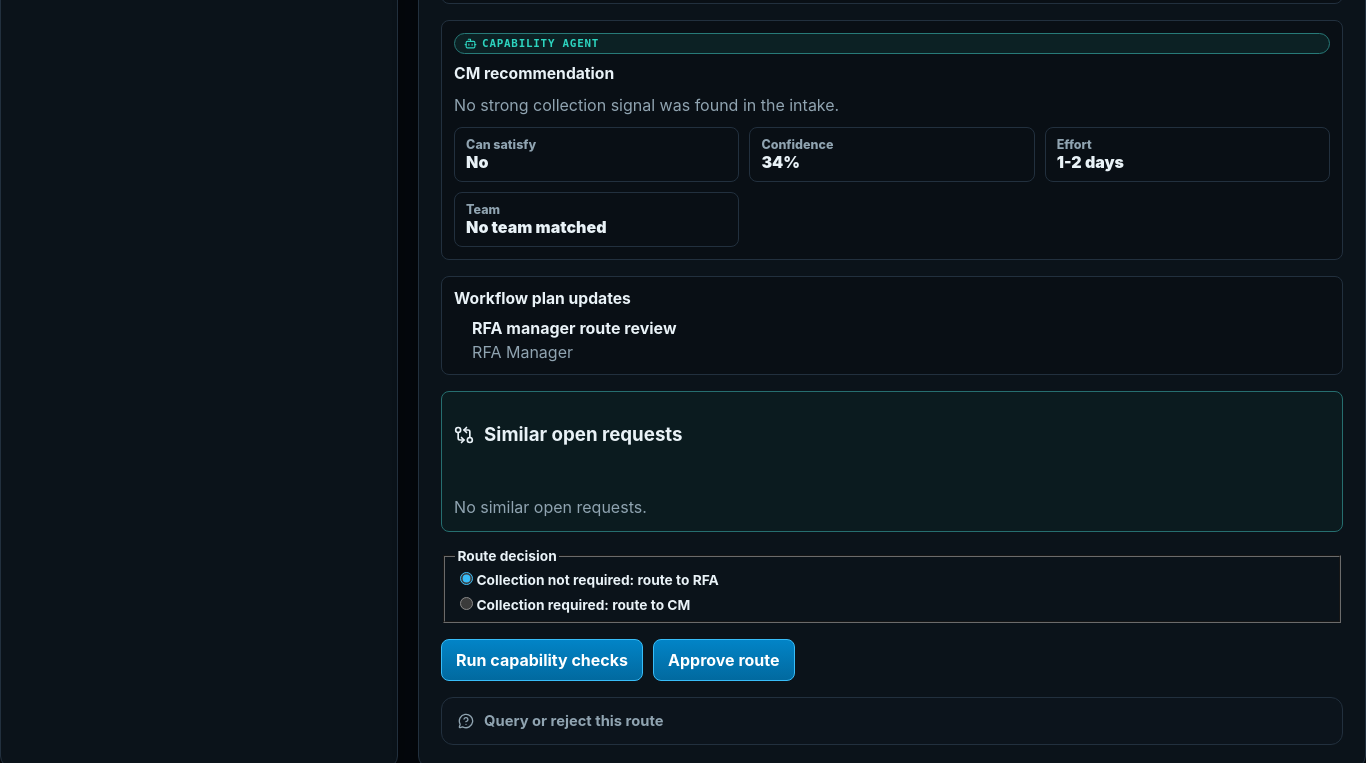
Scenario: shows an action error when the route approval fails
(page scrolled)
Click the button "Approve route". click: (724, 660)
box: [653,639,794,681]
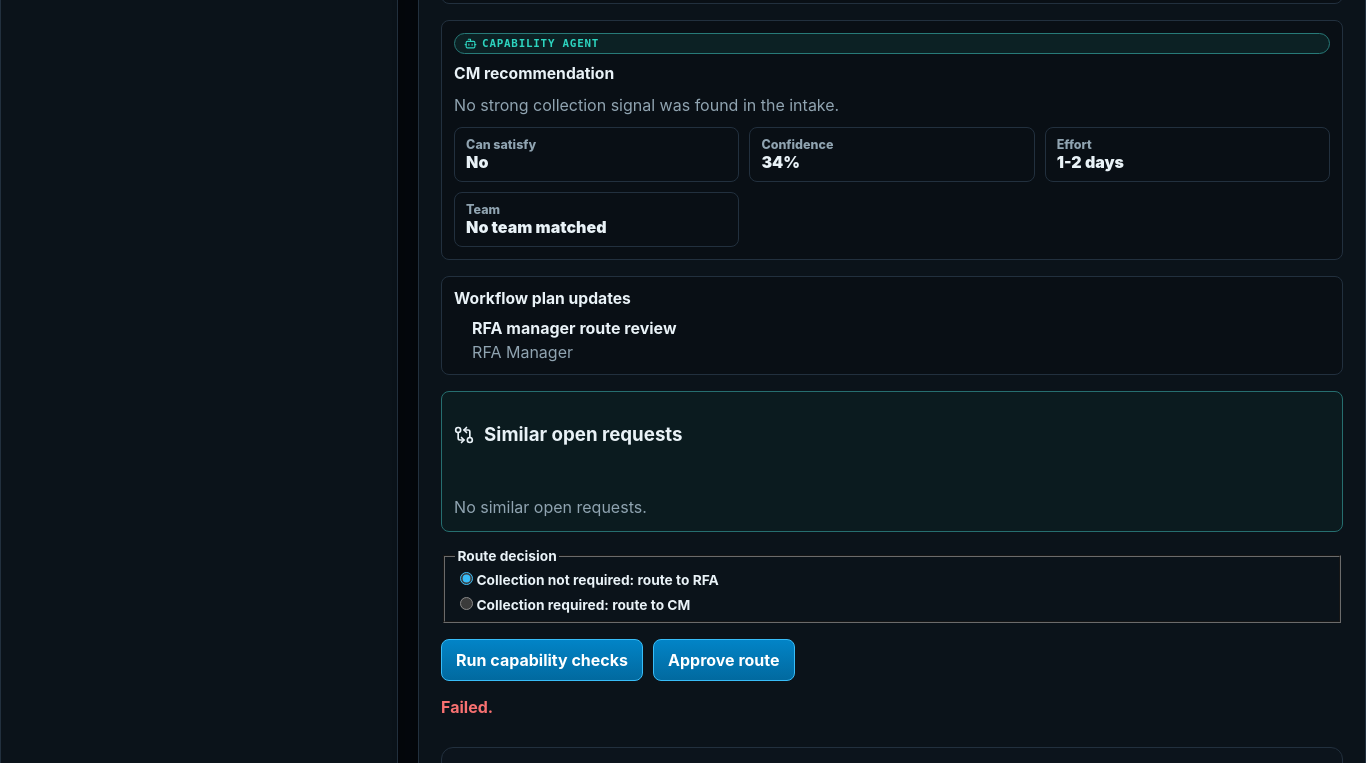
expect the message reads "Failed.": met, box [441,697,493,717]
